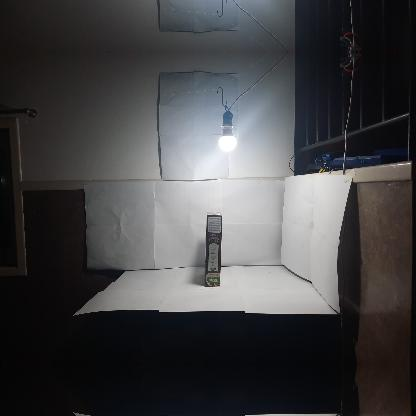Koko-Krunch: (204, 212, 222, 286)
